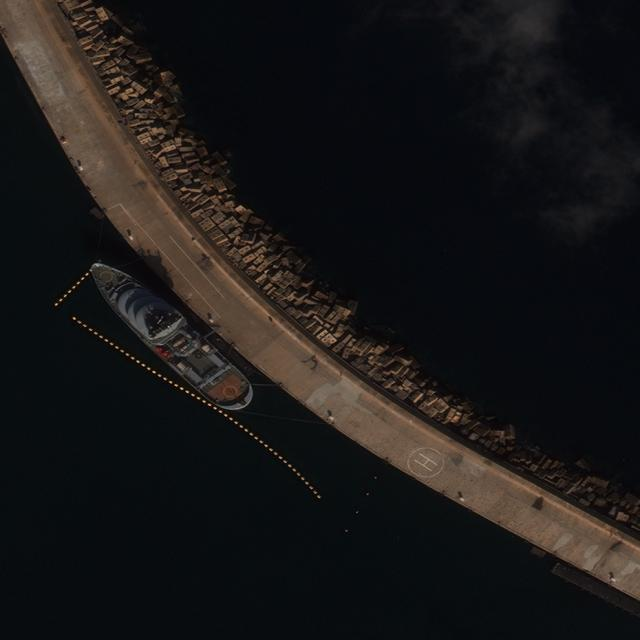Auxiliary Ships: (70, 246, 267, 423)
